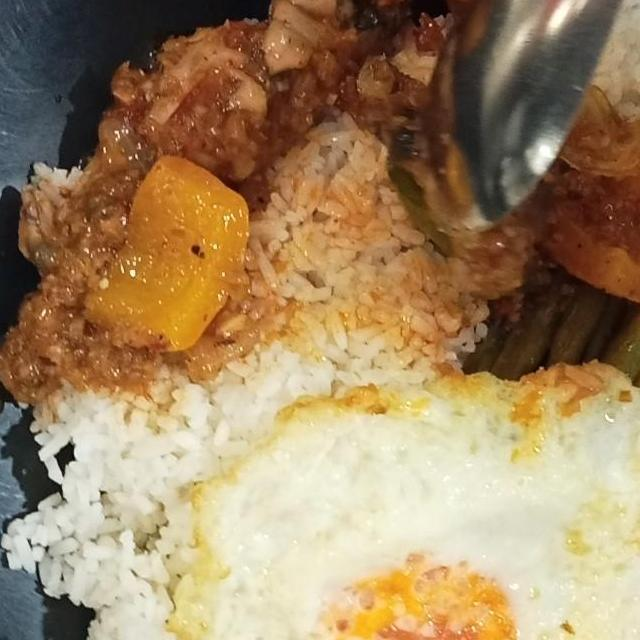com: (208, 101, 500, 412), (0, 366, 288, 640), (576, 0, 640, 255)
trung: (162, 349, 640, 640)
